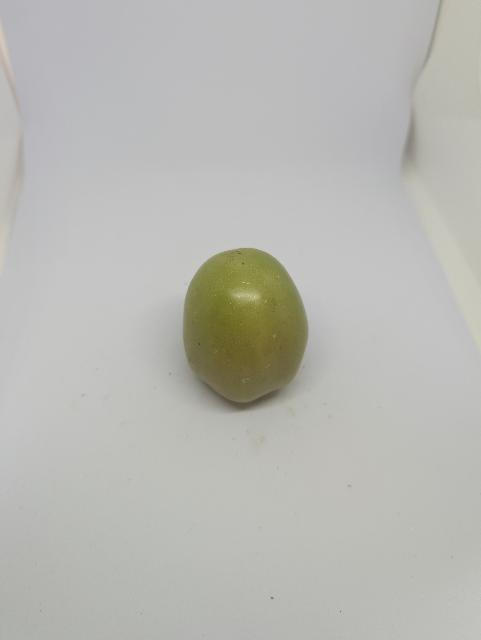green: (151, 230, 340, 424)
